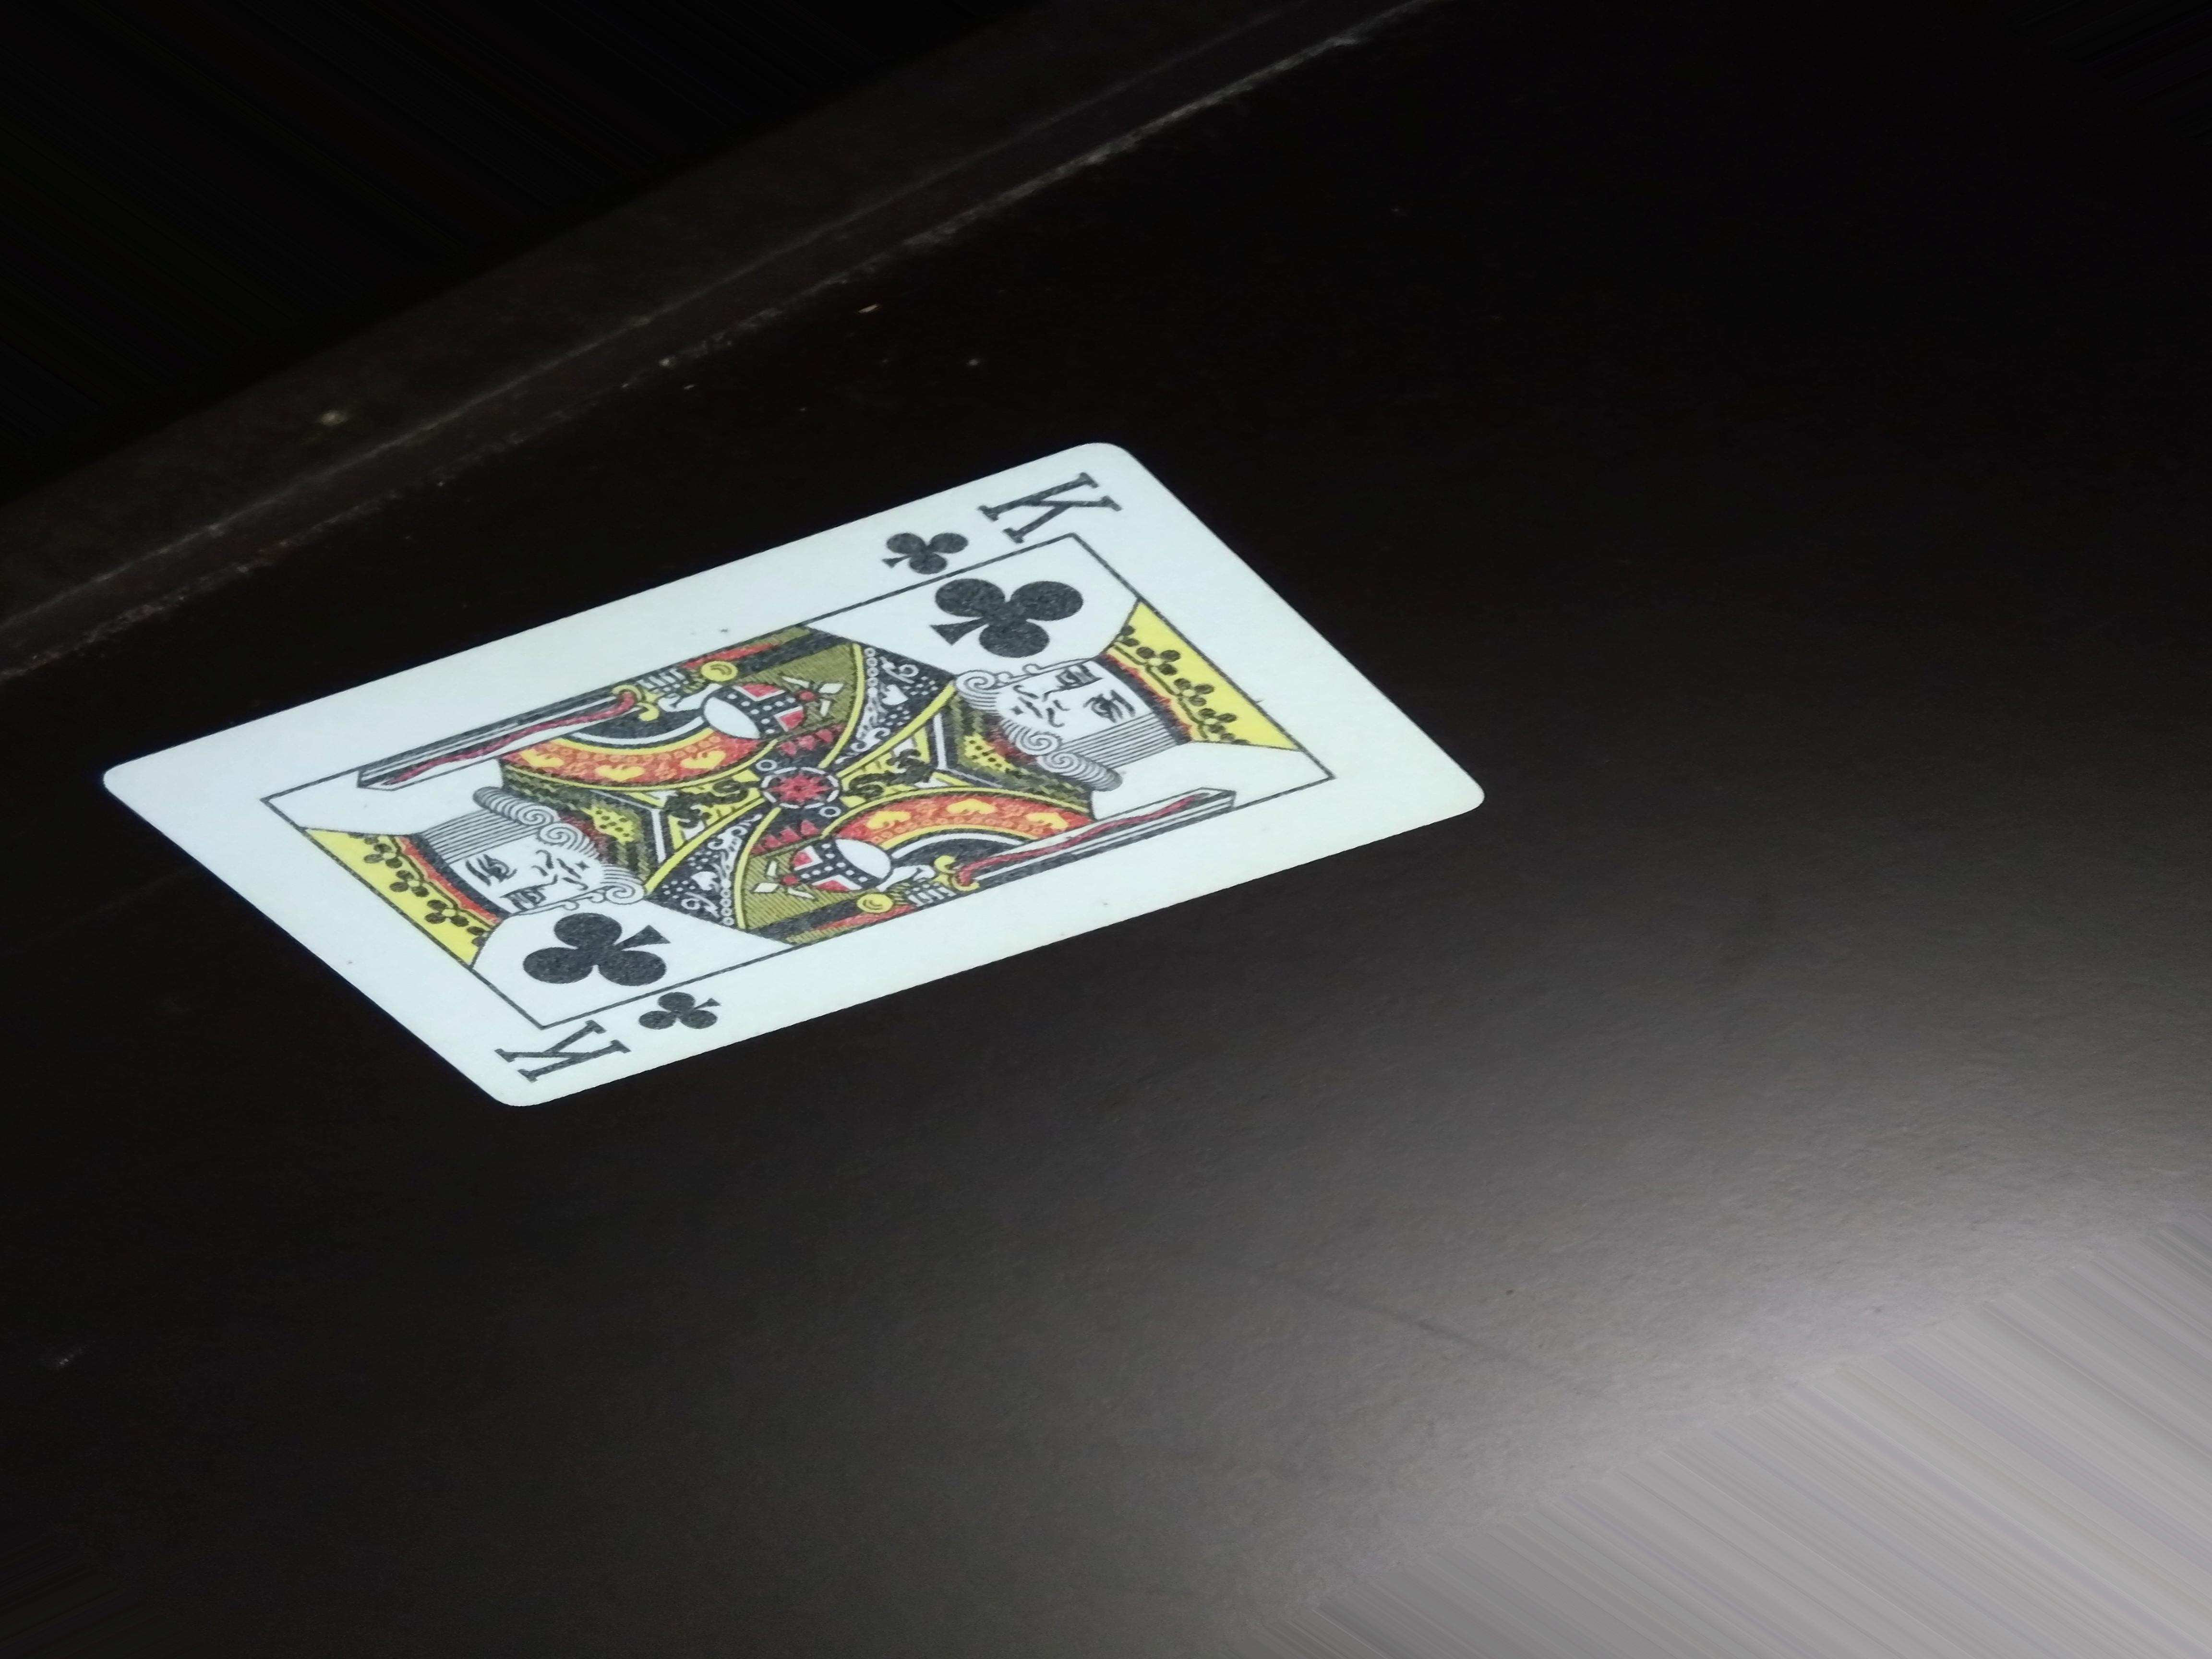KC: (873, 464, 1123, 591)
